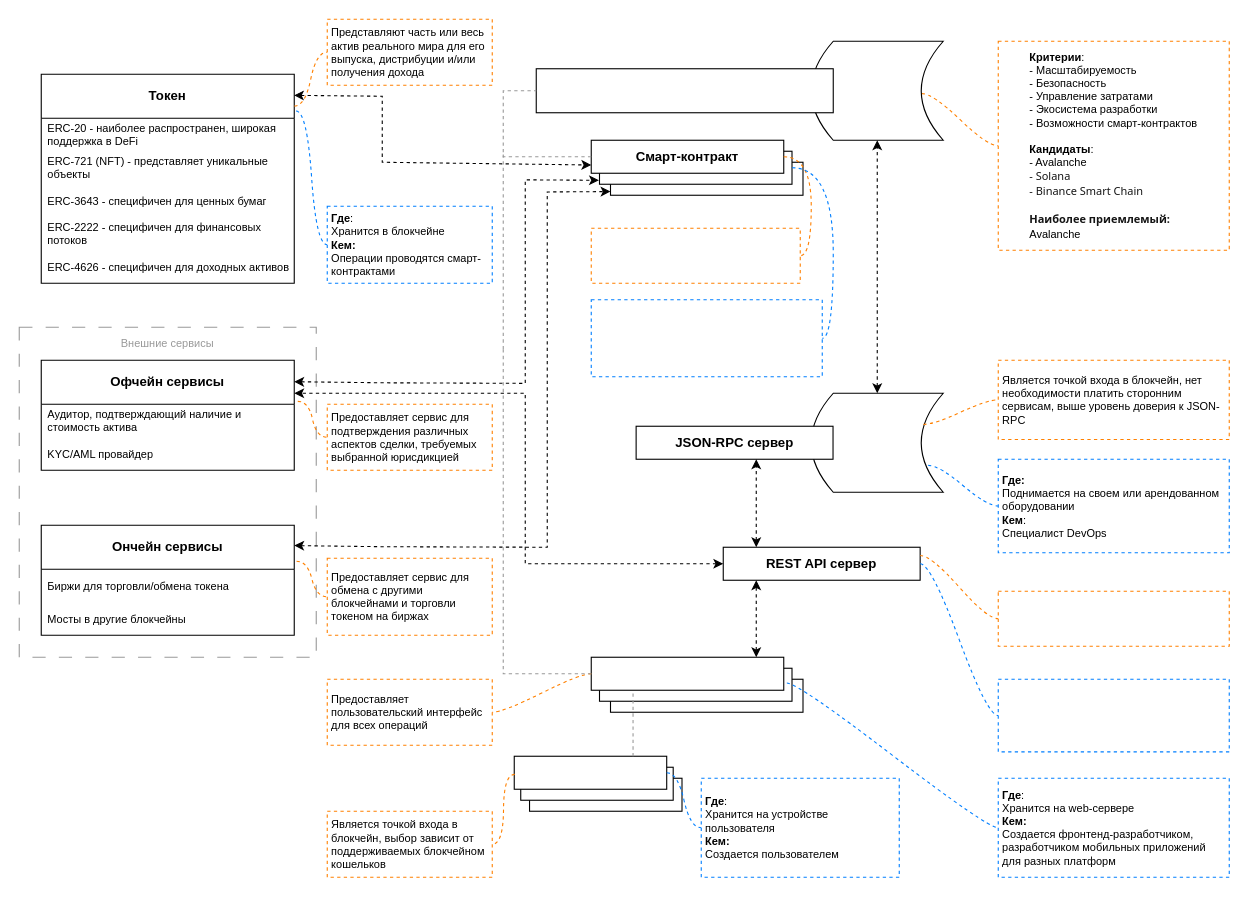
The diagram is 1249 pixels wide and 897 high, and some of its shapes have lost their labels. Each missing label, with the centre of its shape:
"dApp (состоит из смарт-контрактов и UI)" belongs at [684,90].
"Блокчейн" belongs at [876,90].
"Где : Хранится в блокчейне Кем: Создается разработчиком смарт-контрактов" belongs at [706,338].
"Где : Хранится на web-сервере Кем: Создается бэкенд-разработчиком" belongs at [1113,715].
"Нода блокчейна" belongs at [876,442].
"Предоставляет данные и сервисы для работы UI" belongs at [1113,618].
"Различные UI" belongs at [687,673].
"Различные кошельки" belongs at [590,772].
"Управляют транзакциями для токенов - выпуск, продажа" belongs at [695,255].
